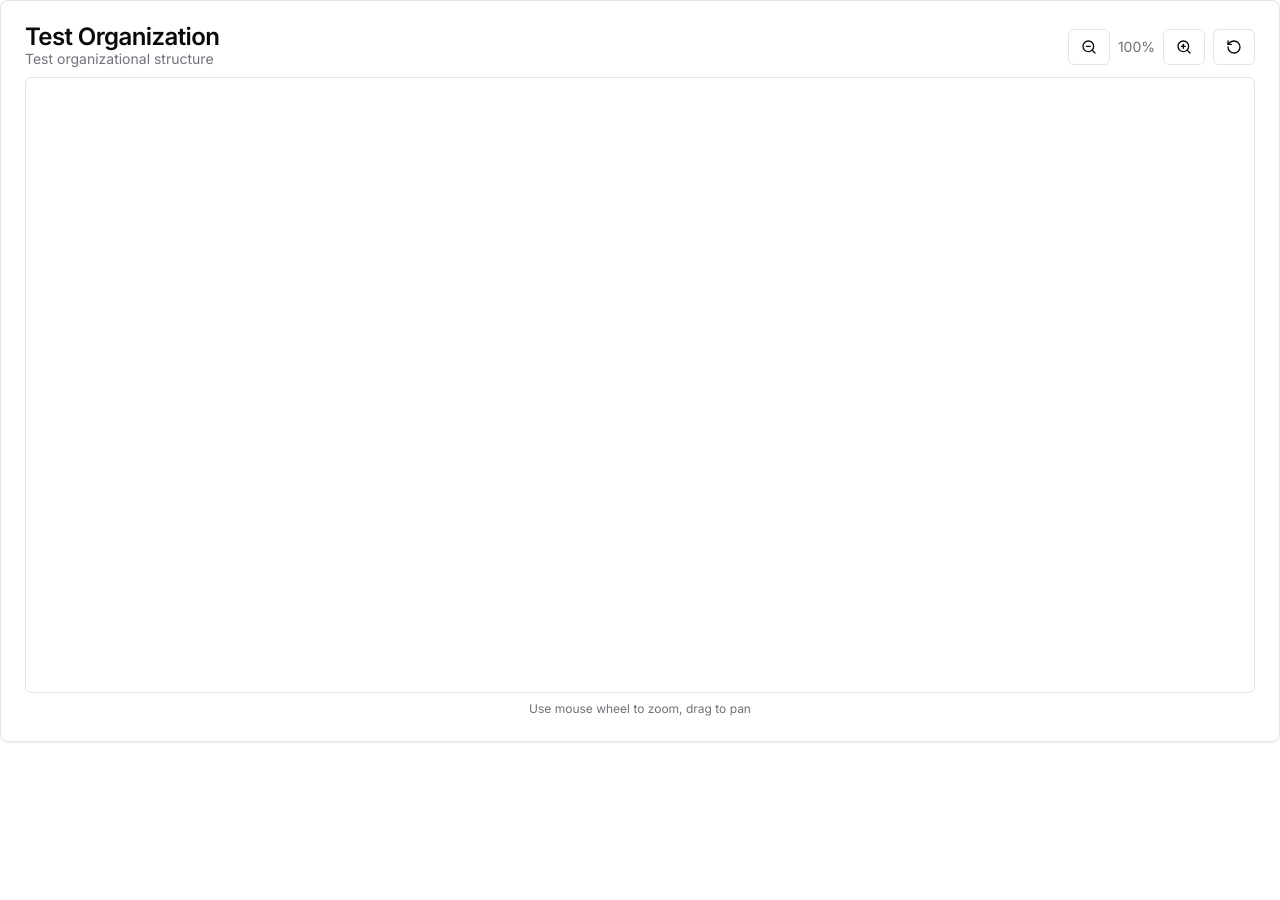
Test case: OrgChartViewer › Zoom functionality › resets zoom and pan when reset button is clicked
// Zoom in first
Click the button named "Zoom in": {"x": 1184, "y": 47} x1=1163 y1=29 x2=1205 y2=65
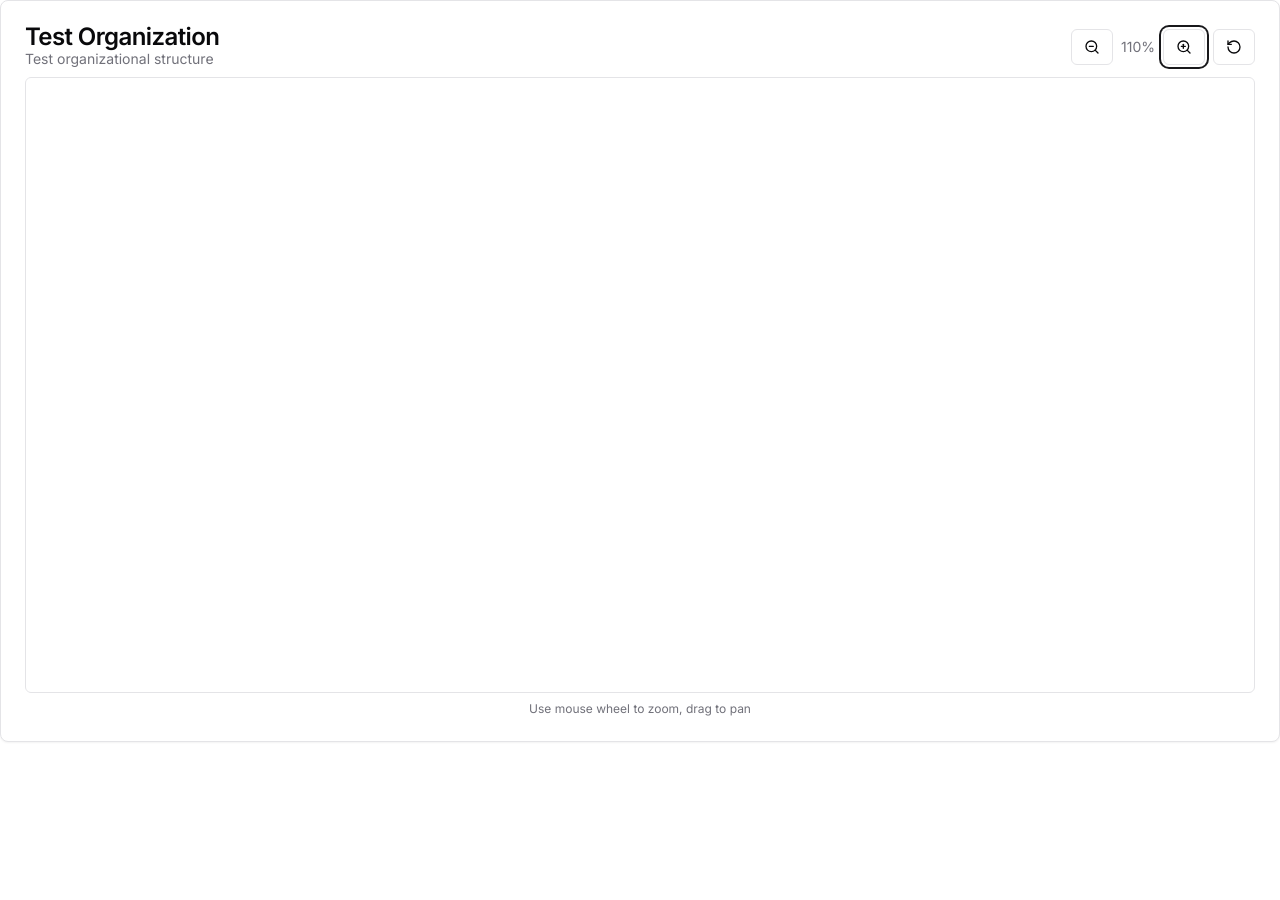
Click the button named "Zoom in": {"x": 1184, "y": 47} x1=1163 y1=29 x2=1205 y2=65
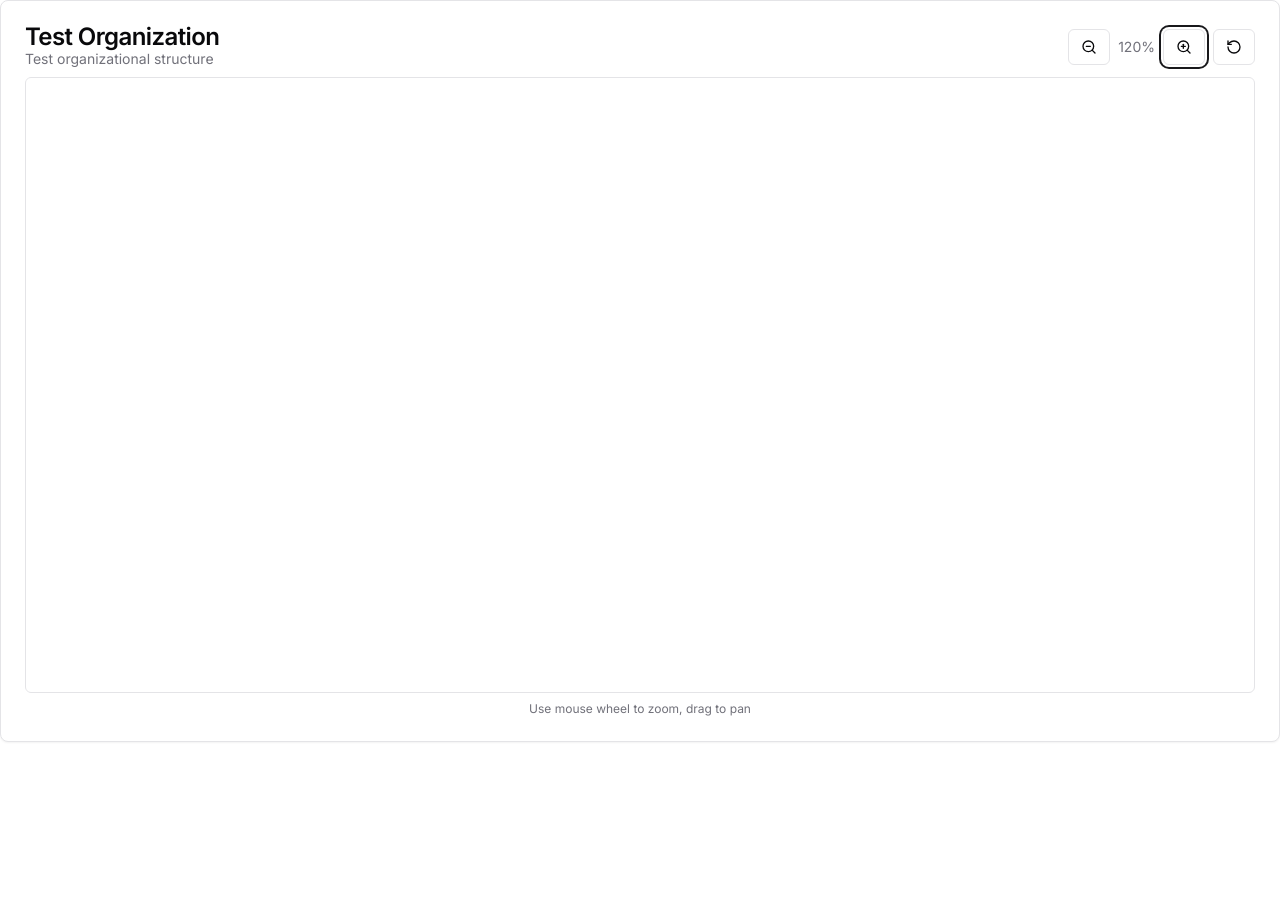
Now the text "120%" is shown, box x1=1118 y1=37 x2=1155 y2=57
Click the button named "Reset view": {"x": 1234, "y": 47} x1=1213 y1=29 x2=1255 y2=65
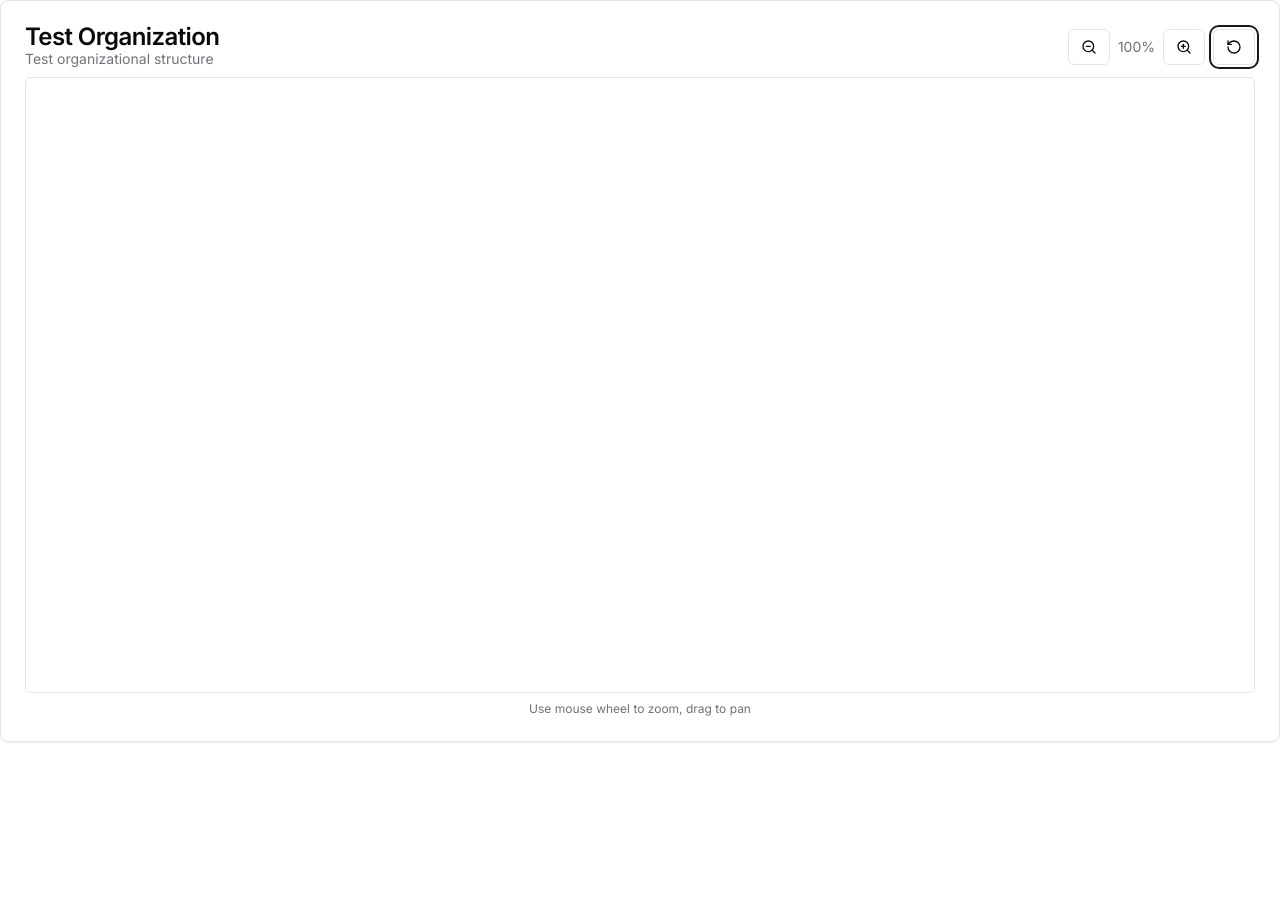
Now the text "100%" is shown, box x1=1118 y1=37 x2=1155 y2=57
